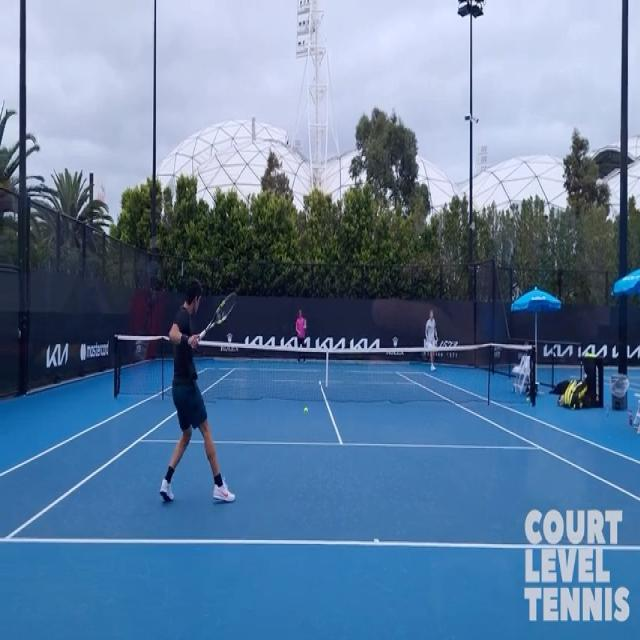forehand-ready: (157, 273, 240, 514)
